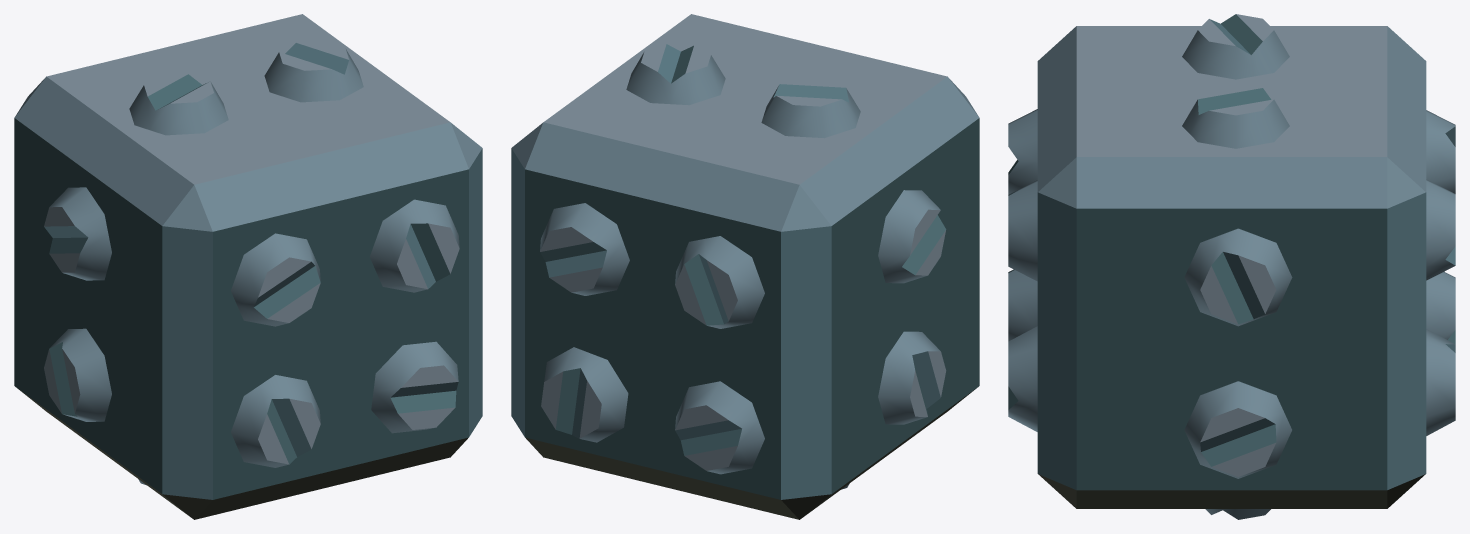
The model's file is m_kub_metal_miniCube.FBX.
3 renders of one model, left to right at view 1: azimuth 30°, elevation 25°; view 2: azimuth 150°, elevation 25°; view 3: azimuth 270°, elevation 25°, orthographic. The views are drawn at different scales.
Visible parts, largest first — view 1: m_kub_metal_miniCube; view 2: m_kub_metal_miniCube; view 3: m_kub_metal_miniCube.
Boxes of the visible parts, <box> form: m_kub_metal_miniCube: <box>14,14,482,519</box>; m_kub_metal_miniCube: <box>511,14,979,519</box>; m_kub_metal_miniCube: <box>1008,14,1455,519</box>.
Size of the model in its own units: 1.15 by 1.15 by 1.15.
